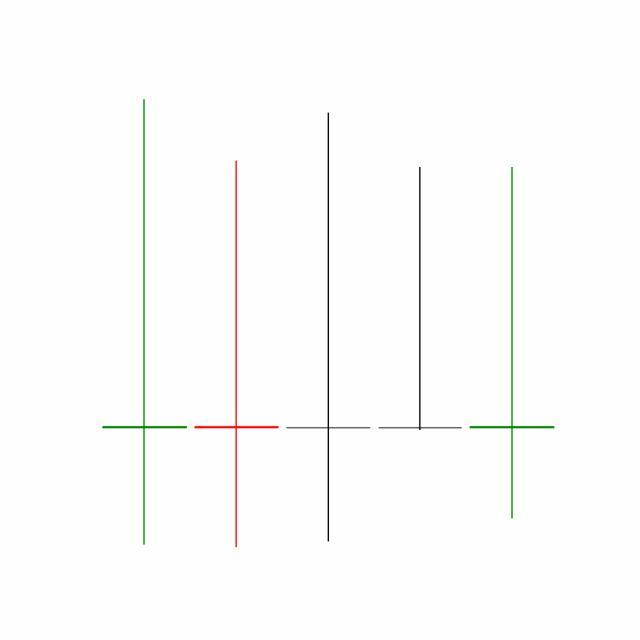Gravestone Doji: (374, 164, 468, 434)
